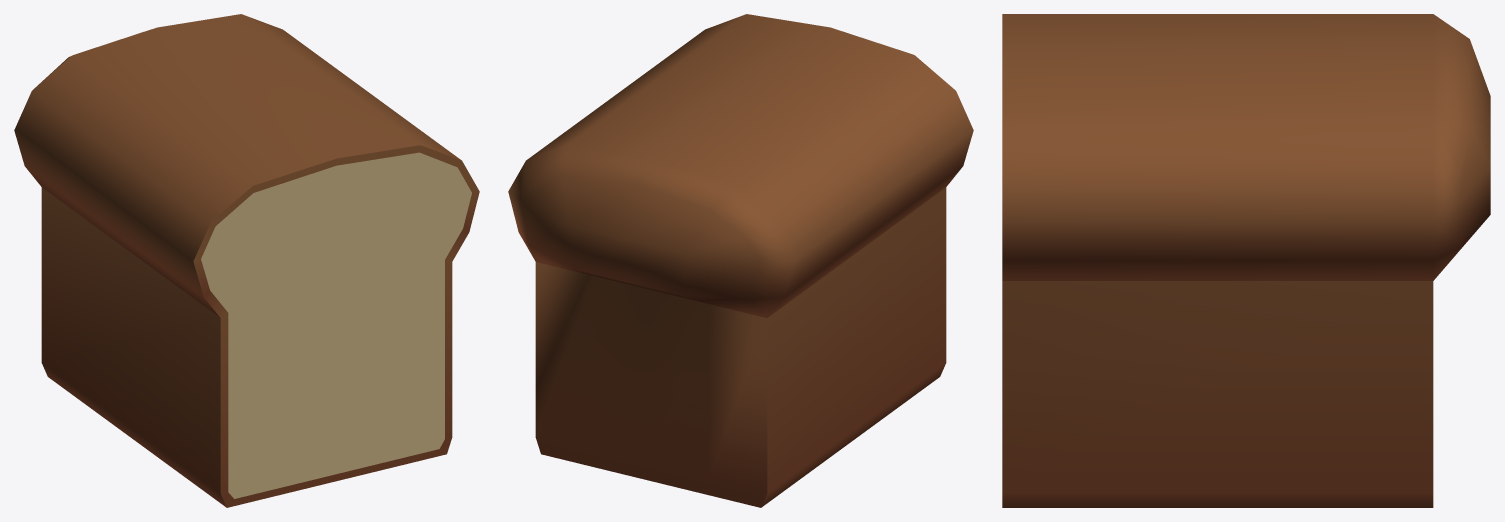
The model's file is consumables-bakedgoods-loafofbread_v1.glb.
The picture shows the model from 3 angles, left to right: view 1: azimuth 30°, elevation 25°; view 2: azimuth 150°, elevation 25°; view 3: azimuth 270°, elevation 25°; orthographic projection. The views are drawn at different scales.
Parts seen in each view (by area): view 1: LoafOfBread.001; view 2: LoafOfBread.001; view 3: LoafOfBread.001.
Boxes of the visible parts, left/top/right/bottom form: LoafOfBread.001: left=14, top=14, right=479, bottom=507; LoafOfBread.001: left=508, top=14, right=973, bottom=507; LoafOfBread.001: left=1002, top=14, right=1490, bottom=507.
Bounding box in the file's own units: 0.1468 × 0.158 × 0.1802.
